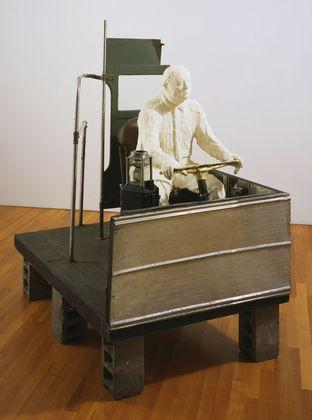person: (128, 59, 245, 203)
